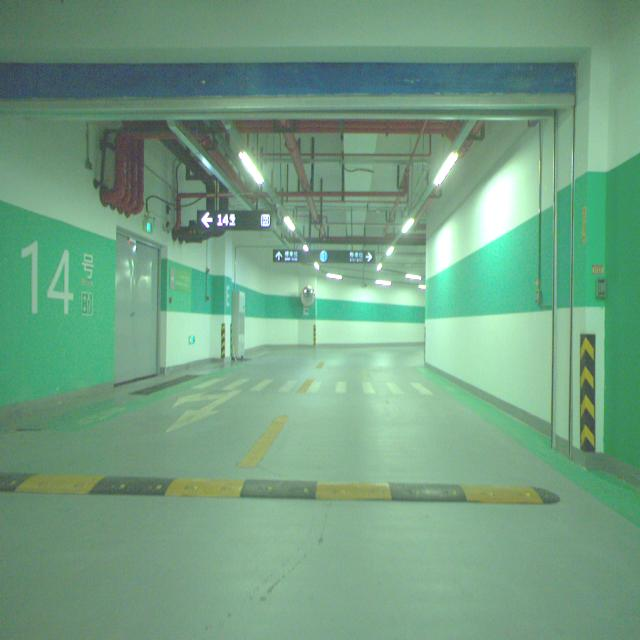wall: (211, 235, 233, 359)
